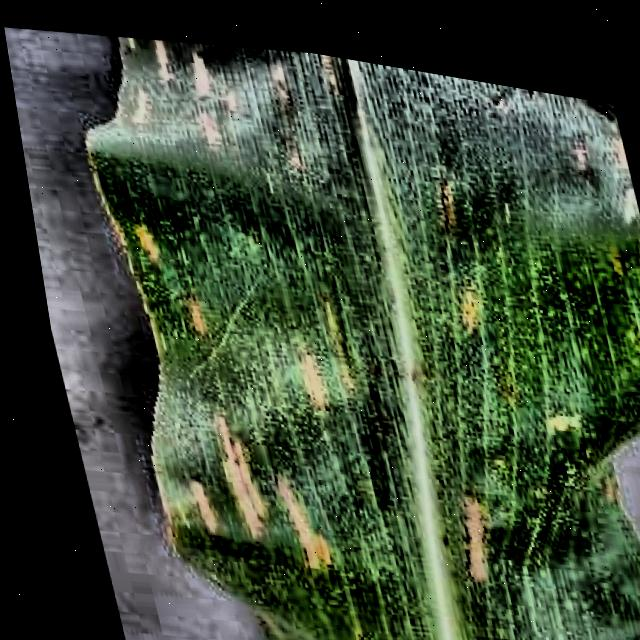gray_spot: (65, 11, 640, 640)
